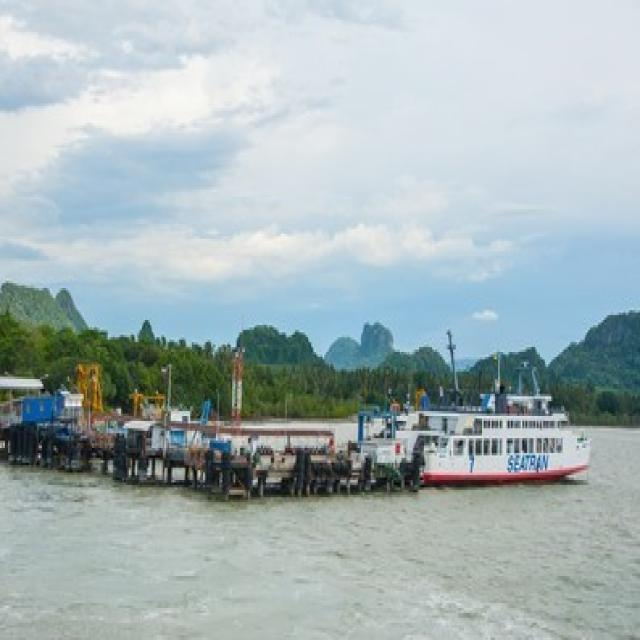passenger ship: (359, 355, 602, 493)
